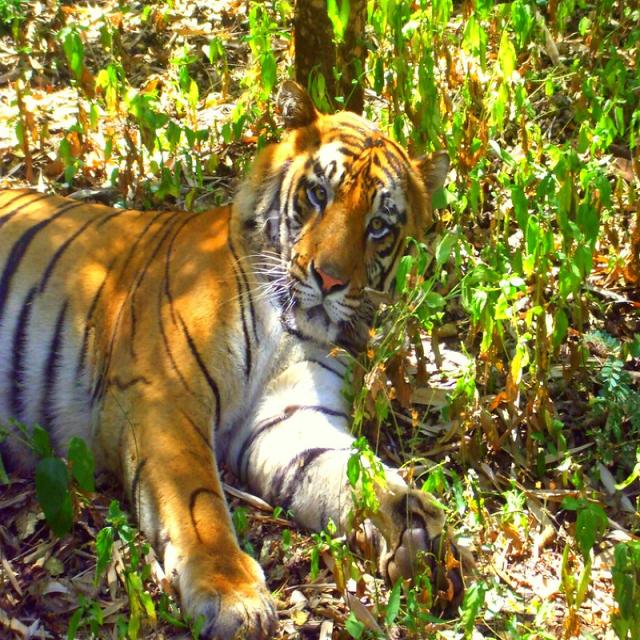Tiger: (0, 79, 450, 638)
